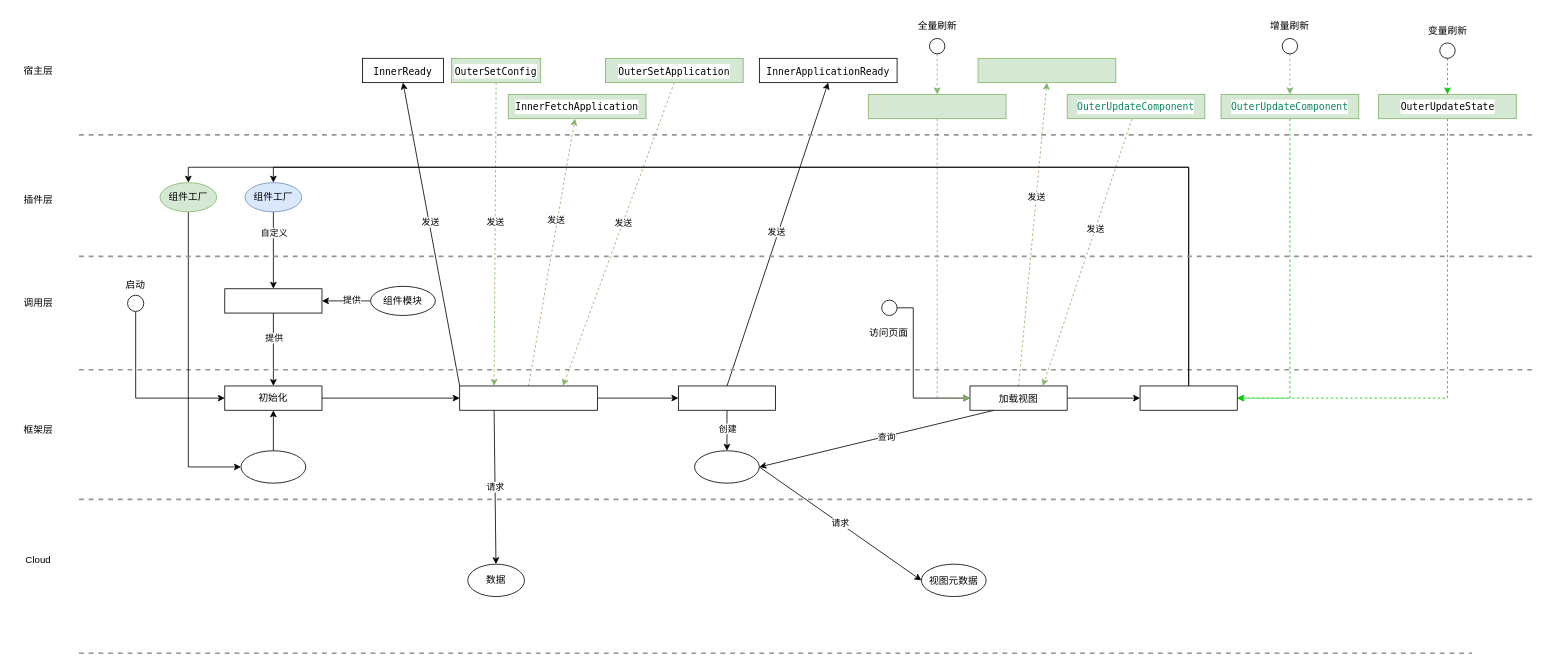
This 1552x668 diagram has some shape labels left out. The box of each missing label's shape, as (x1, y1, x2, y2) in pixels:
InnerFetchView: (977, 58, 1116, 83)
OuterRefreshView: (868, 94, 1006, 119)
初始化应用: (678, 385, 776, 410)
刷新视图: (1139, 385, 1237, 410)
加载应用数据: (459, 385, 597, 410)
应用视图: (694, 450, 759, 483)
配置: (224, 288, 322, 313)
默认配置: (240, 450, 306, 483)
